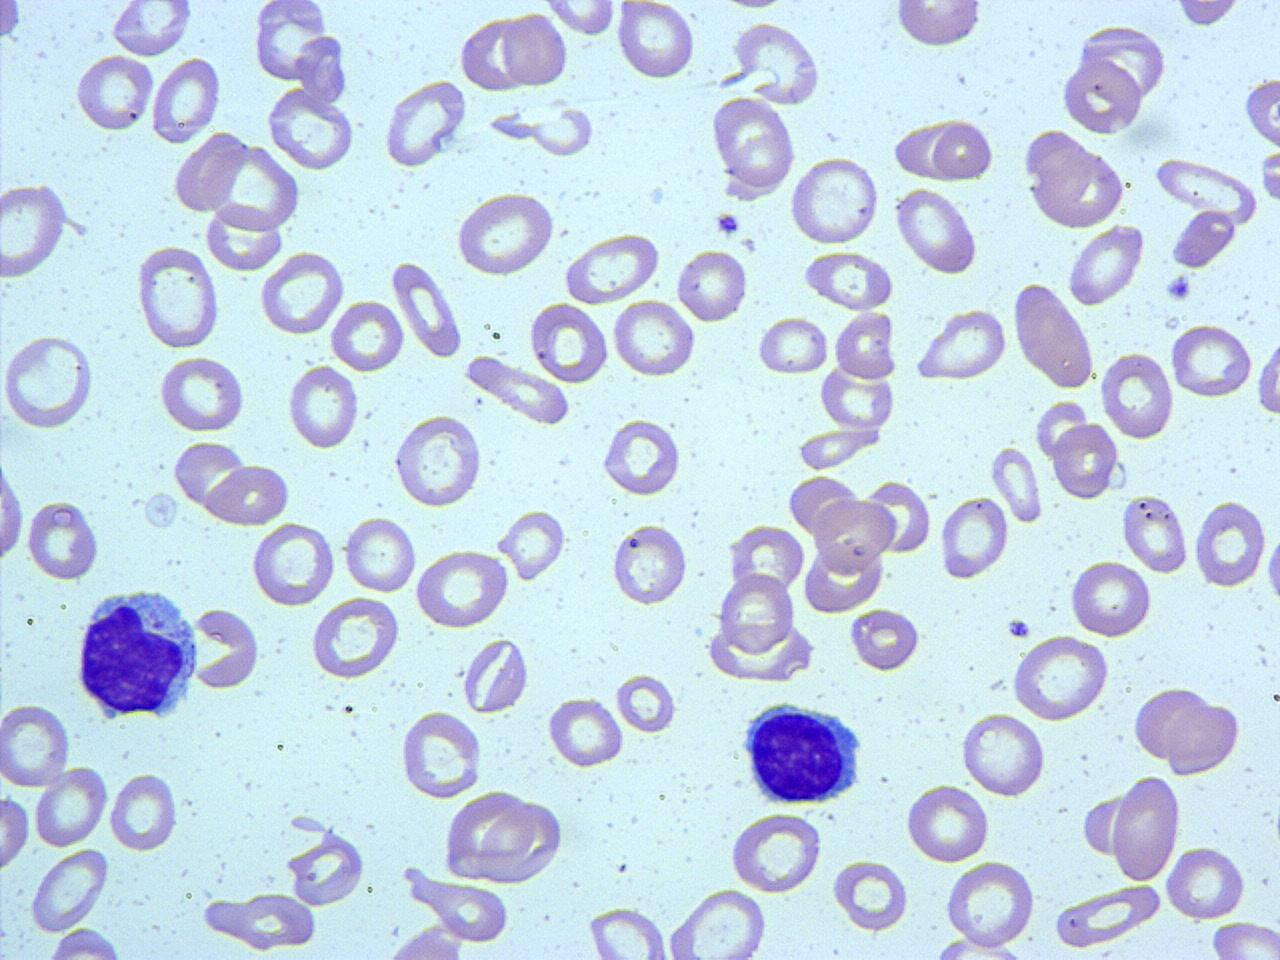Platelets: (0, 1, 25, 47), (1164, 273, 1192, 302), (714, 210, 742, 236), (1005, 618, 1031, 640)
RBC: (1, 331, 97, 433), (133, 243, 222, 351), (202, 139, 302, 235), (454, 189, 558, 278), (1008, 634, 1112, 722), (390, 413, 484, 509), (786, 152, 880, 247), (722, 19, 823, 107), (943, 858, 1038, 950), (1026, 147, 1128, 230), (308, 594, 403, 683), (728, 809, 824, 897), (381, 76, 468, 171), (256, 248, 346, 339), (708, 93, 794, 188), (413, 546, 510, 630), (264, 86, 358, 172), (704, 615, 818, 685), (1110, 774, 1182, 884), (398, 709, 484, 801), (250, 518, 336, 610), (892, 187, 981, 275), (444, 790, 531, 880), (1076, 22, 1166, 108), (960, 710, 1046, 800), (1051, 880, 1161, 950), (388, 259, 465, 359), (664, 887, 768, 960), (467, 354, 572, 426), (478, 798, 563, 886), (561, 232, 662, 306), (30, 844, 111, 936), (905, 780, 991, 866), (1152, 156, 1260, 224), (915, 305, 1009, 383), (156, 354, 246, 434), (611, 297, 697, 380), (0, 180, 70, 281), (1099, 349, 1175, 442), (1069, 556, 1153, 640), (610, 518, 688, 608), (1169, 321, 1255, 402), (1059, 55, 1143, 137), (529, 300, 610, 385), (1193, 498, 1267, 591), (1065, 222, 1145, 308), (717, 568, 795, 656), (32, 761, 109, 849), (284, 828, 366, 910), (287, 360, 360, 451), (602, 416, 682, 499), (812, 497, 896, 576), (150, 53, 222, 145), (616, 0, 696, 82), (1164, 842, 1246, 922), (253, 1, 331, 85), (171, 129, 247, 215), (800, 540, 886, 616), (0, 698, 72, 788), (26, 496, 101, 582), (75, 53, 154, 133), (1165, 698, 1243, 778), (830, 858, 912, 934), (1027, 302, 1097, 391), (939, 493, 1009, 582), (191, 605, 263, 690), (342, 514, 418, 594), (674, 245, 750, 325), (1130, 684, 1208, 761), (547, 694, 625, 770), (800, 249, 894, 312), (203, 199, 284, 272), (204, 460, 292, 527), (108, 770, 178, 853), (329, 295, 404, 372), (727, 521, 807, 593), (460, 634, 530, 716), (1121, 491, 1189, 575), (459, 14, 529, 94), (173, 437, 246, 512), (816, 364, 896, 432), (501, 9, 568, 89), (496, 506, 566, 582), (231, 892, 316, 954), (1052, 420, 1118, 499), (848, 606, 921, 676), (434, 880, 510, 946), (891, 118, 969, 182), (109, 0, 193, 58), (755, 314, 831, 376), (586, 904, 670, 960), (892, 0, 984, 51), (832, 309, 896, 382), (613, 670, 680, 738), (988, 443, 1043, 524), (1169, 207, 1239, 268), (928, 118, 994, 182), (294, 32, 350, 107), (794, 425, 882, 470), (1034, 393, 1090, 461), (1080, 790, 1128, 861), (0, 450, 26, 568), (43, 924, 128, 960), (1208, 918, 1280, 960), (924, 934, 1038, 960), (1242, 73, 1280, 149), (540, 0, 618, 37), (0, 791, 30, 875), (1254, 332, 1280, 422), (1171, 1, 1245, 29), (719, 0, 784, 15), (0, 0, 23, 41)
WBC: (71, 586, 203, 720), (685, 15, 870, 108), (740, 697, 866, 806), (362, 70, 485, 169), (2, 328, 99, 434), (389, 411, 485, 505), (1027, 140, 1129, 225), (311, 595, 404, 686), (262, 84, 360, 170)
